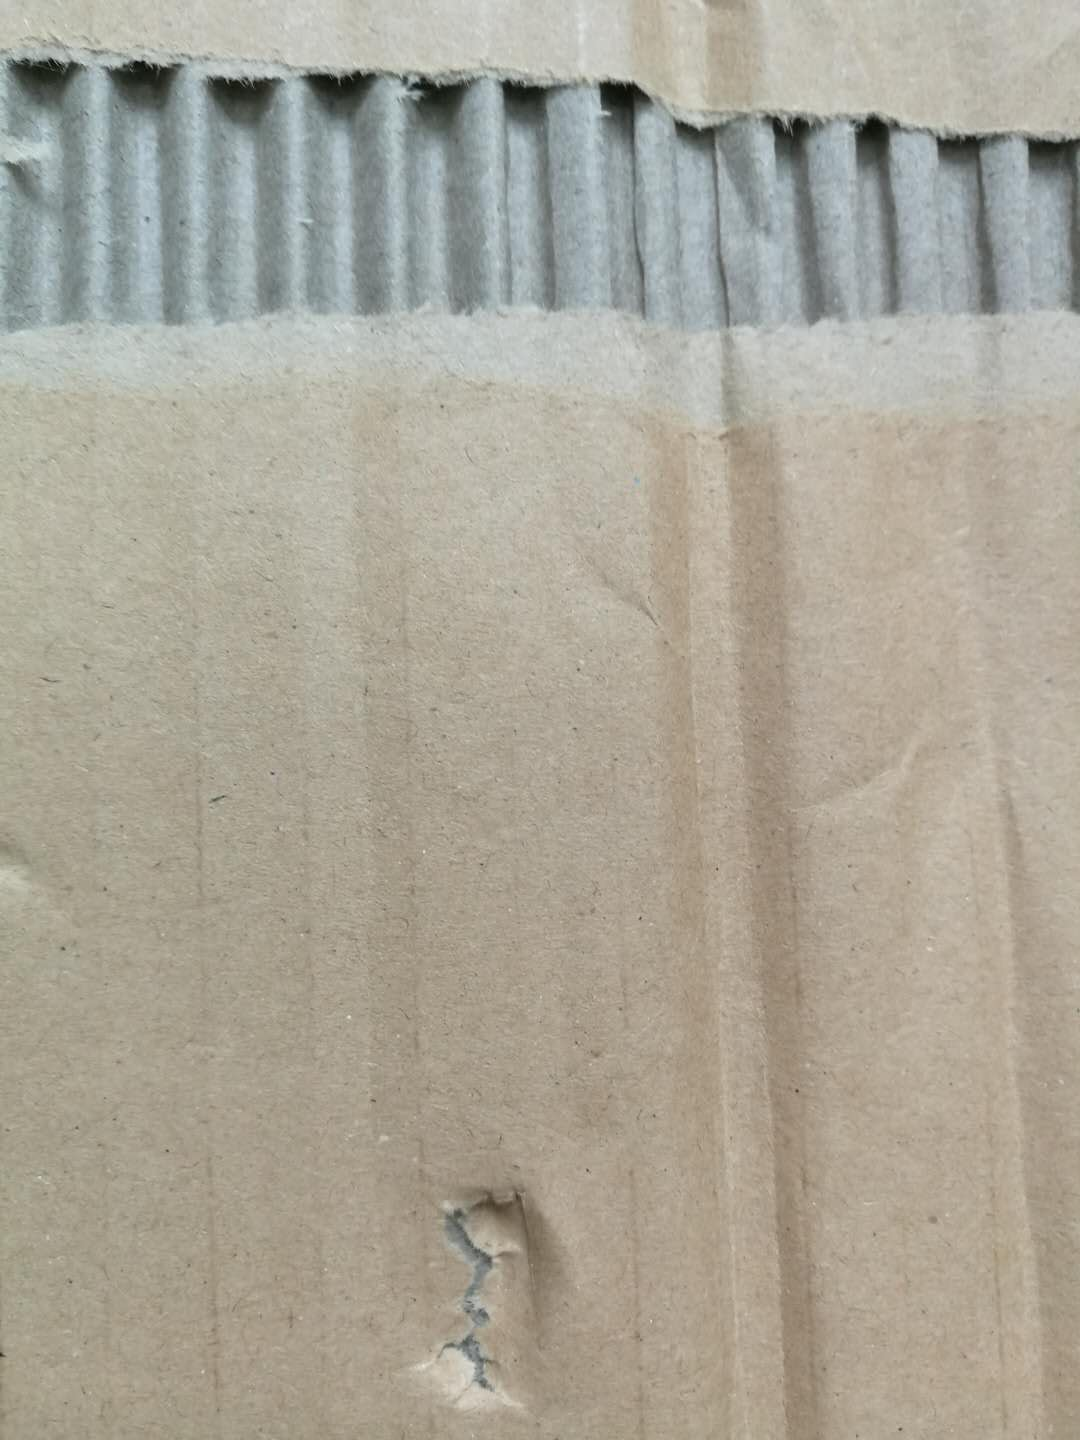defect: (1, 5, 1079, 489), (591, 1, 922, 1439), (955, 745, 1080, 1439), (377, 1167, 591, 1433), (1, 810, 54, 932)
